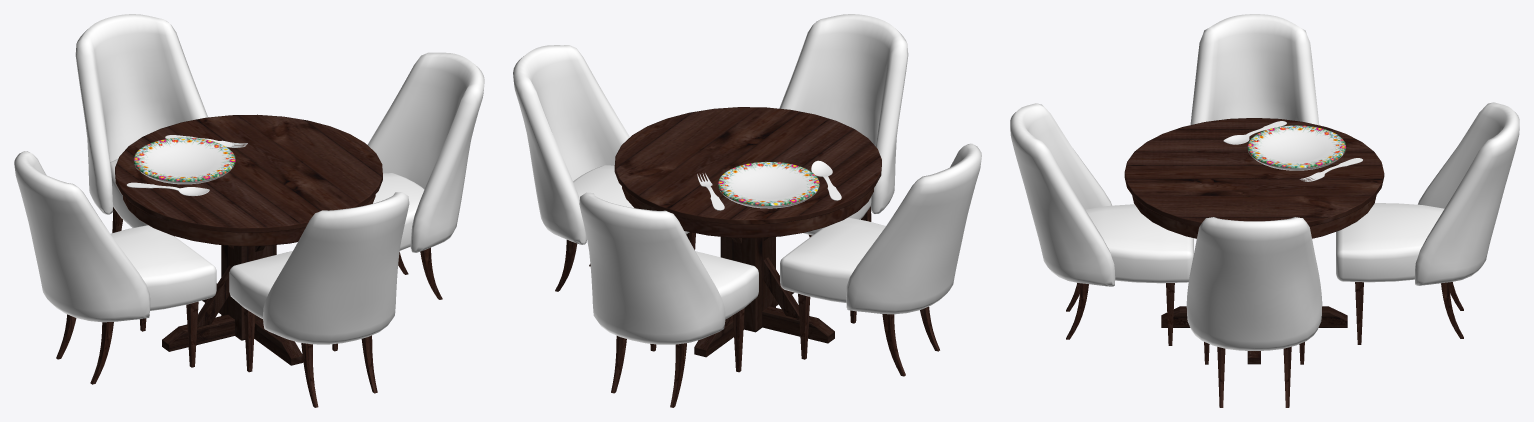
The picture shows the model from 3 angles, left to right: view 1: azimuth 30°, elevation 25°; view 2: azimuth 150°, elevation 25°; view 3: azimuth 270°, elevation 25°; orthographic projection. The views are drawn at different scales.
Visible parts, largest first — view 1: Dining Table_Dining Table_0, Chair_01_Dining Table_0, Chair_04_Dining Table_0, Chair_02_Dining Table_0, Chair_03_Dining Table_0, Plate_Dining Table_0, Spoon_Dining Table_0; view 2: Dining Table_Dining Table_0, Chair_01_Dining Table_0, Chair_02_Dining Table_0, Chair_03_Dining Table_0, Chair_04_Dining Table_0, Plate_Dining Table_0, Spoon_Dining Table_0; view 3: Dining Table_Dining Table_0, Chair_02_Dining Table_0, Chair_04_Dining Table_0, Chair_03_Dining Table_0, Chair_01_Dining Table_0, Plate_Dining Table_0.
Part boxes in pixels (x1=…): Dining Table_Dining Table_0: x1=115, y1=114, x2=382, y2=365; Chair_01_Dining Table_0: x1=14, y1=151, x2=216, y2=384; Chair_04_Dining Table_0: x1=229, y1=192, x2=409, y2=407; Chair_02_Dining Table_0: x1=75, y1=14, x2=207, y2=236; Chair_03_Dining Table_0: x1=367, y1=52, x2=484, y2=299; Plate_Dining Table_0: x1=133, y1=137, x2=235, y2=184; Spoon_Dining Table_0: x1=126, y1=182, x2=209, y2=196; Dining Table_Dining Table_0: x1=614, y1=107, x2=881, y2=357; Chair_01_Dining Table_0: x1=780, y1=143, x2=981, y2=376; Chair_02_Dining Table_0: x1=579, y1=192, x2=758, y2=407; Chair_03_Dining Table_0: x1=513, y1=45, x2=695, y2=291; Chair_04_Dining Table_0: x1=779, y1=14, x2=908, y2=237; Plate_Dining Table_0: x1=717, y1=161, x2=819, y2=208; Spoon_Dining Table_0: x1=811, y1=160, x2=841, y2=200; Dining Table_Dining Table_0: x1=1124, y1=118, x2=1384, y2=364; Chair_02_Dining Table_0: x1=1336, y1=102, x2=1519, y2=344; Chair_04_Dining Table_0: x1=1010, y1=103, x2=1193, y2=345; Chair_03_Dining Table_0: x1=1186, y1=217, x2=1322, y2=407; Chair_01_Dining Table_0: x1=1190, y1=14, x2=1319, y2=125; Plate_Dining Table_0: x1=1247, y1=125, x2=1346, y2=170.
Size of the model in its own units: 198 by 90.23 by 201.
Materials: 2 (2 with a texture image).
